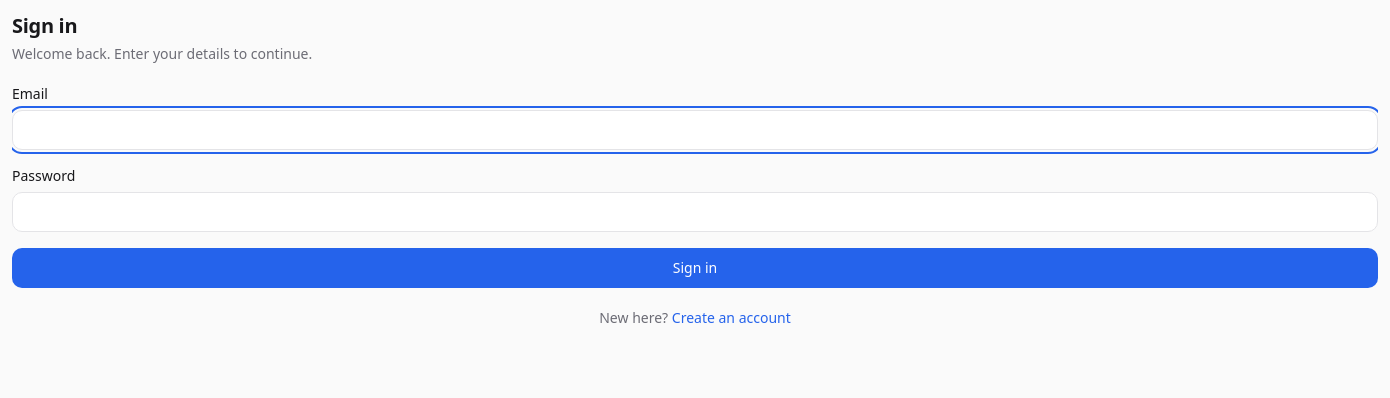
Test: LoginPage › a 401 says 'Incorrect email or password.' and never which of the two was wrong
Type "me@example.com" into the field labelled "Email". click: (695, 130)
box: [12,110,1378,150]
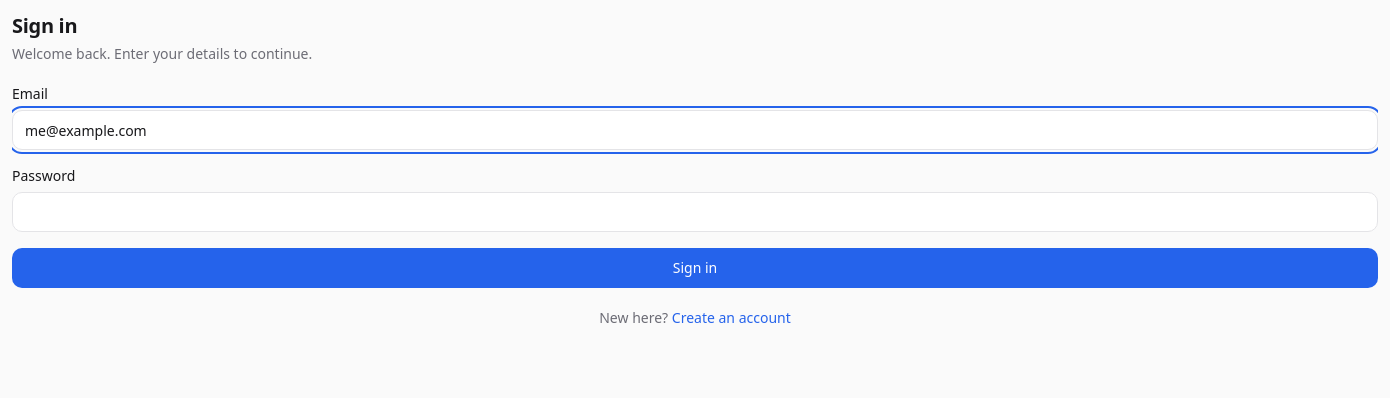
Type "wrong-password" into the password field labelled "Password". click: (695, 212)
box: [12,192,1378,232]
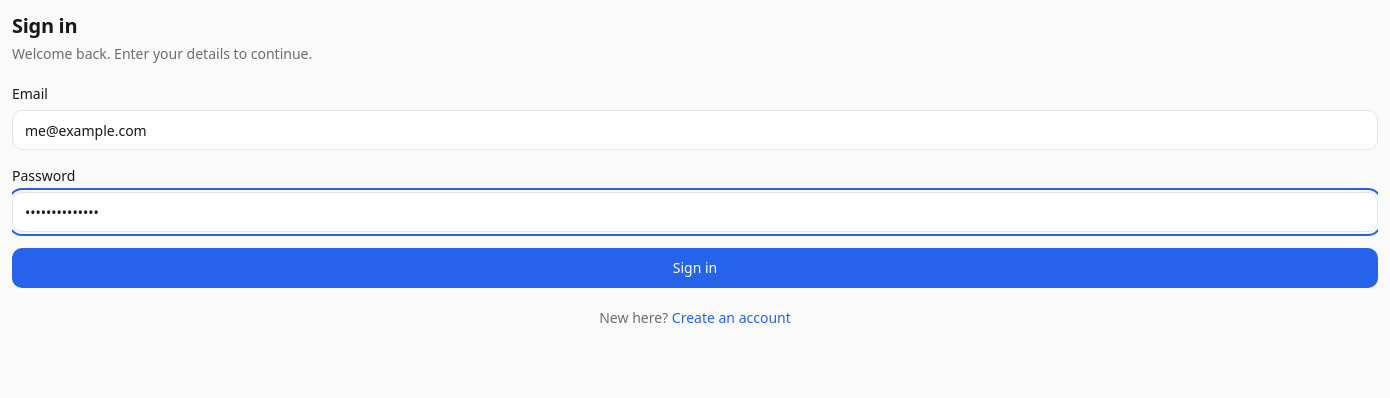
Click the button "Sign in". click: (695, 268)
box: [12,248,1378,288]
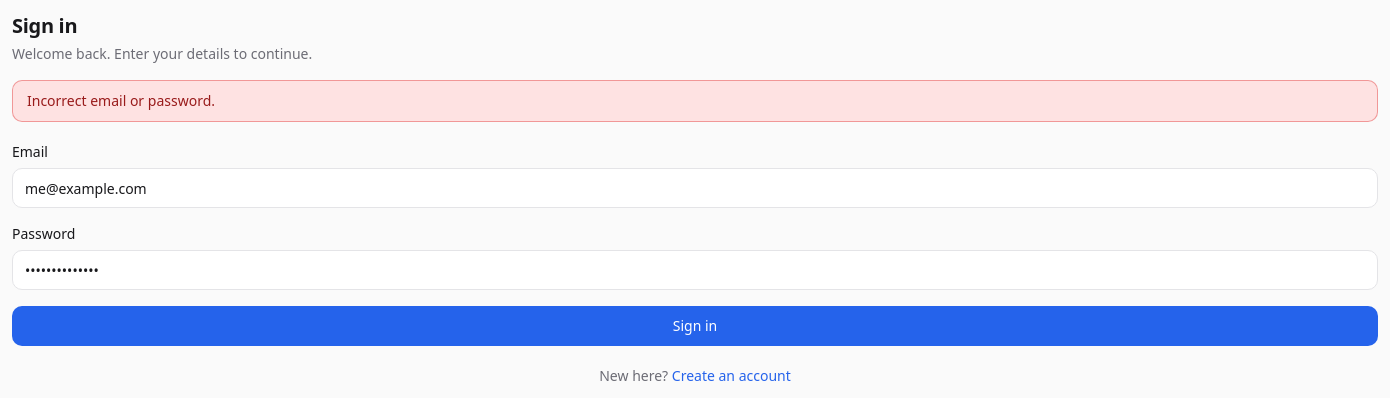
Check: the message does not show "internal wording", box [12,80,1378,122]
Check: the message reads "Incorrect email or password.", box [27,91,215,110]
